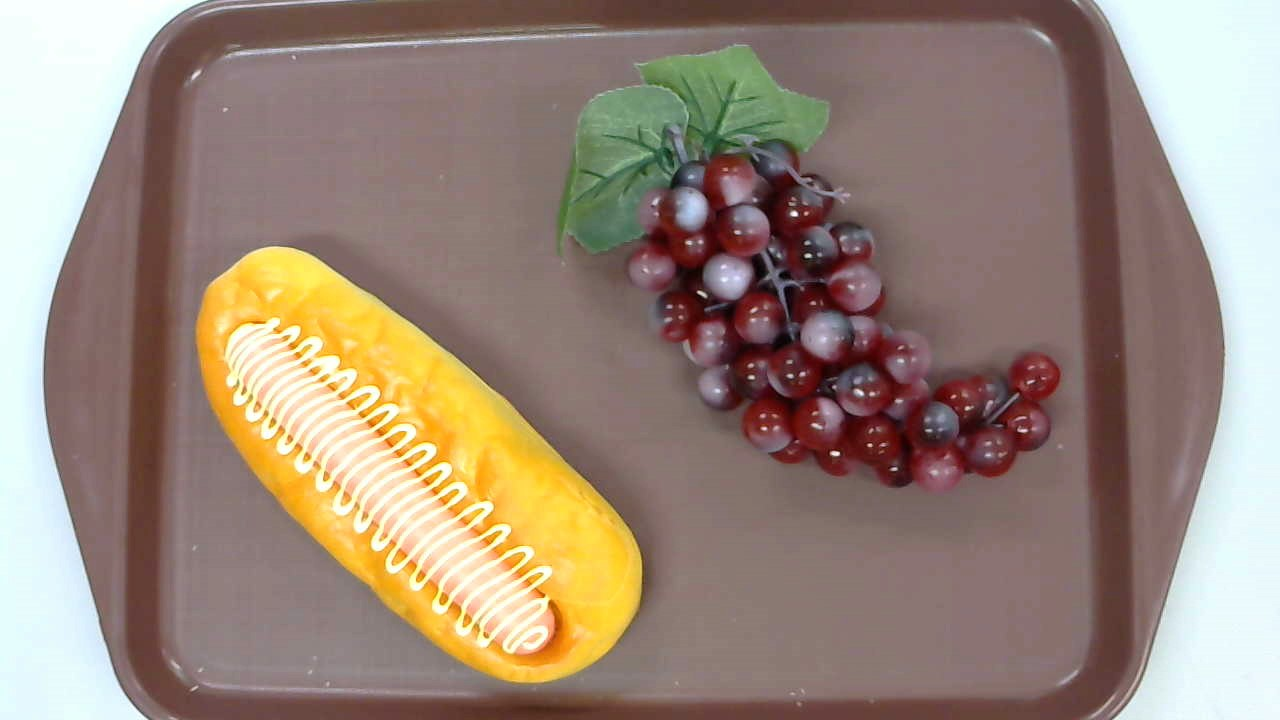grape: (555, 44, 1061, 494)
hot dog: (196, 247, 642, 684)
